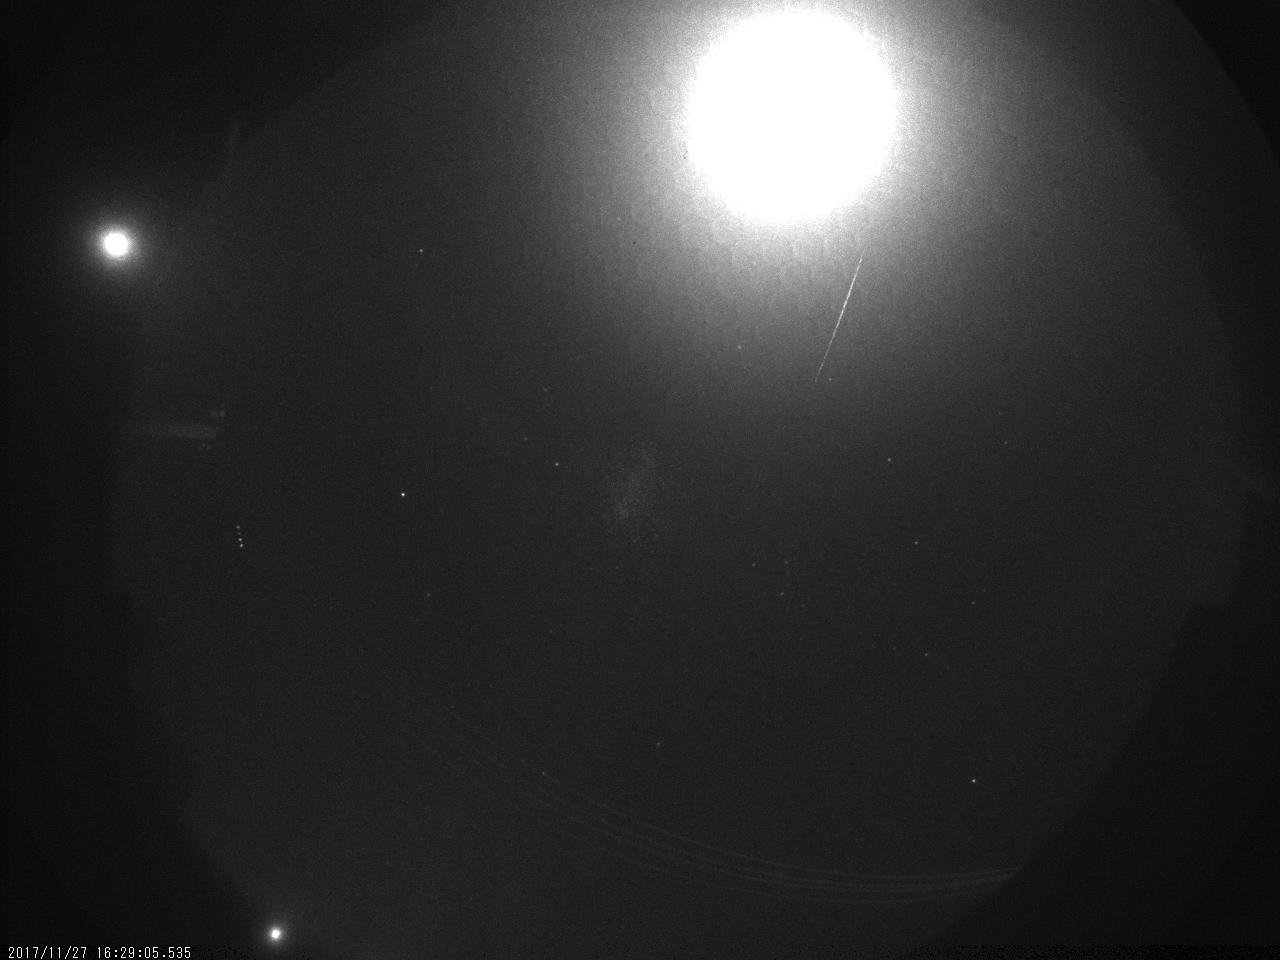meteor: (823, 223, 872, 421)
